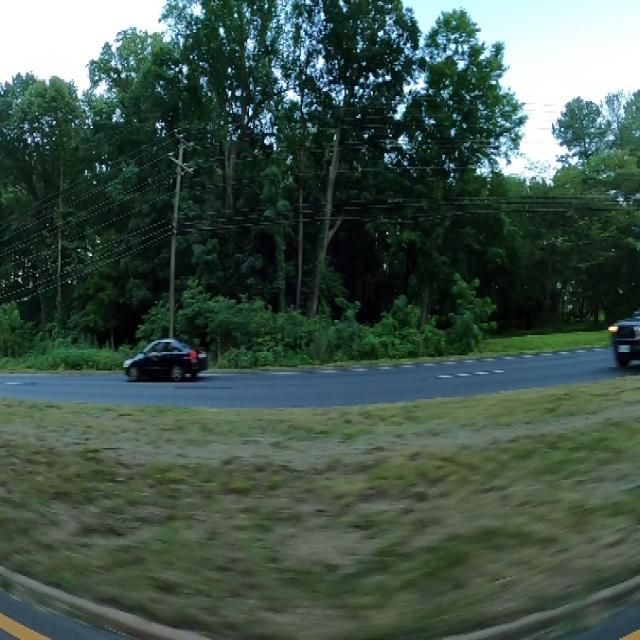car: (118, 322, 212, 392)
